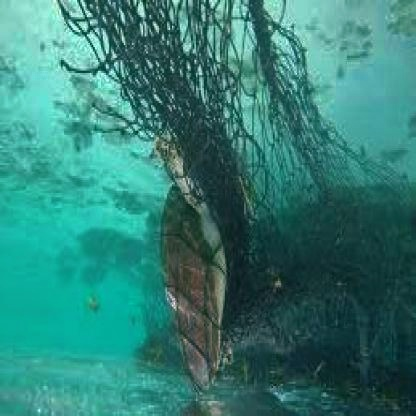net: (72, 2, 402, 358)
